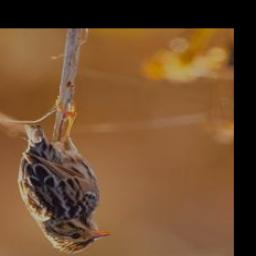Sparrow: (17, 100, 115, 255)
